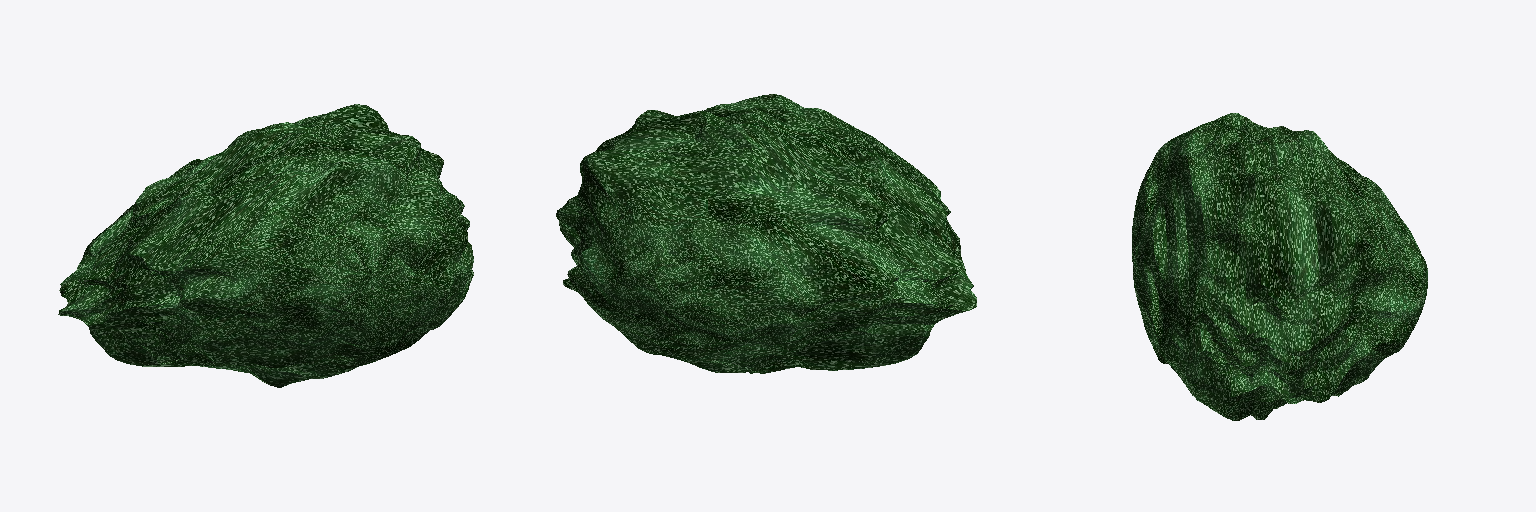
3 renders of one model, left to right at view 1: azimuth 30°, elevation 25°; view 2: azimuth 150°, elevation 25°; view 3: azimuth 270°, elevation 25°, orthographic.
Visible parts, largest first — view 1: Sphere01; view 2: Sphere01; view 3: Sphere01.
Part boxes in pixels (x1,y1,x2,y2): Sphere01: (58,104,473,387); Sphere01: (556,94,976,373); Sphere01: (1132,113,1427,420).
Bounding box in the file's own units: 39.05 × 23.17 × 24.69.
Materials: 1 (1 with a texture image).